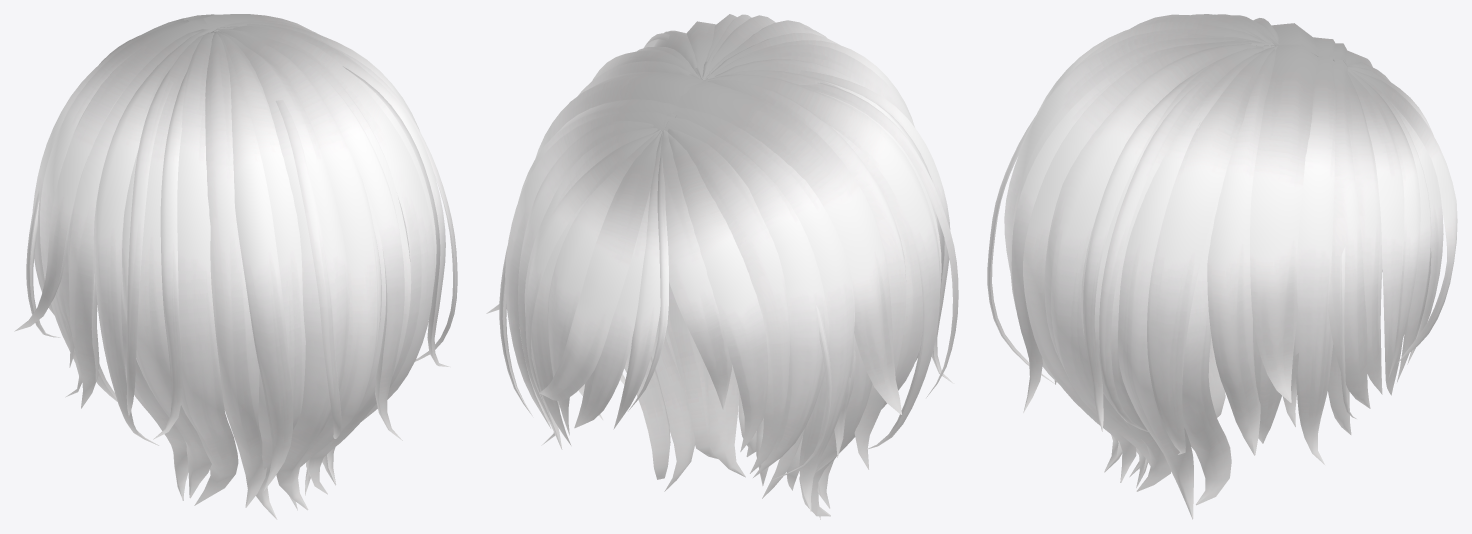
Rendered from Hair002.glb.
3 views of the same model, side by side, from view 1: azimuth 30°, elevation 25°; view 2: azimuth 150°, elevation 25°; view 3: azimuth 270°, elevation 25° (orthographic). The views are drawn at different scales.
Parts seen in each view (by area): view 1: Hair001; view 2: Hair001; view 3: Hair001.
Boxes of the visible parts, box(x1,y1,x2,y2) form: Hair001: box(14, 14, 457, 519); Hair001: box(486, 14, 958, 519); Hair001: box(987, 14, 1457, 519).
Size of the model in its own units: 0.2556 by 0.2816 by 0.2665.
1 material, 1 textured.
